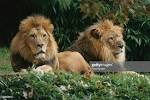lion: (11, 17, 89, 82), (73, 17, 125, 65)
